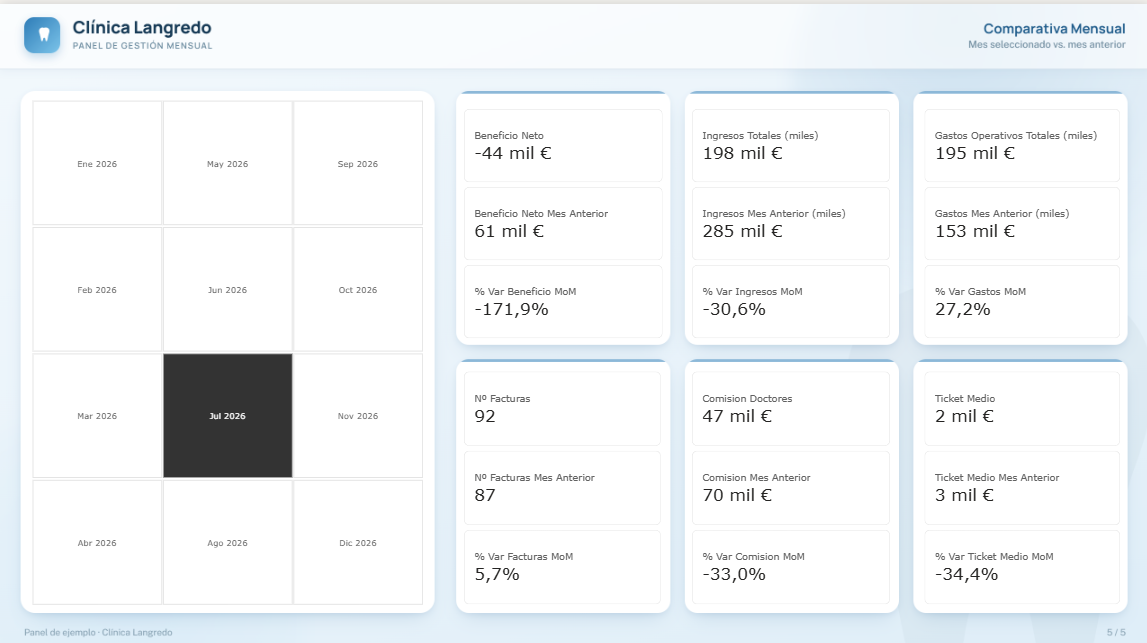

Layout of this report page (visuals, bound fields, positions):
{"tool":"powerbi","page":{"name":"Comparativa Mensual","canvas":[1920,1080],"ordinal":4},"visuals":[{"type":"slicer","fields":{"Values":["Calendario.MesAño"]},"box":[35,157.5,690,845],"z":0},{"type":"cardVisual","fields":{"Data":["_Medidas.Ingresos Totales (miles)","_Medidas.Ingresos Mes Anterior (miles)","_Medidas.% Var Ingresos MoM"]},"box":[1155,175,330,383.3],"z":1000},{"type":"cardVisual","fields":{"Data":["_Medidas.Ticket Medio","_Medidas.Ticket Medio Mes Anterior","_Medidas.% Var Ticket Medio MoM"]},"box":[1541.7,613.3,326.7,390],"z":2000},{"type":"cardVisual","fields":{"Data":["_Medidas.Comision Doctores","_Medidas.Comision Mes Anterior","_Medidas.% Var Comision MoM"]},"box":[1155,613.3,330,390],"z":3000},{"type":"cardVisual","fields":{"Data":["_Medidas.Nº Facturas","_Medidas.Nº Facturas Mes Anterior","_Medidas.% Var Facturas MoM"]},"box":[775,613.3,328.3,390],"z":4000},{"type":"cardVisual","fields":{"Data":["_Medidas.Beneficio Neto","_Medidas.Beneficio Neto Mes Anterior","_Medidas.% Var Beneficio MoM"]},"box":[775,175,331.7,383.3],"z":5000},{"type":"cardVisual","fields":{"Data":["_Medidas.Gastos Operativos Totales (miles)","_Medidas.Gastos Mes Anterior (miles)","_Medidas.% Var Gastos MoM"]},"box":[1541.7,175,326.7,383.3],"z":6000}]}

Visuals, with their boxes in screenshot pixels (x1, y1, x2, y2), scaled from the page's 1920x1080 canvas onto the 1147x643 screenshot:
slicer - Calendario.MesAño: region(21, 94, 433, 597)
cardVisual - _Medidas.Ingresos Totales (miles) x _Medidas.Ingresos Mes Anterior (miles): region(690, 104, 887, 332)
cardVisual - _Medidas.Ticket Medio x _Medidas.Ticket Medio Mes Anterior: region(921, 365, 1116, 597)
cardVisual - _Medidas.Comision Doctores x _Medidas.Comision Mes Anterior: region(690, 365, 887, 597)
cardVisual - _Medidas.Nº Facturas x _Medidas.Nº Facturas Mes Anterior: region(463, 365, 659, 597)
cardVisual - _Medidas.Beneficio Neto x _Medidas.Beneficio Neto Mes Anterior: region(463, 104, 661, 332)
cardVisual - _Medidas.Gastos Operativos Totales (miles) x _Medidas.Gastos Mes Anterior (miles): region(921, 104, 1116, 332)
